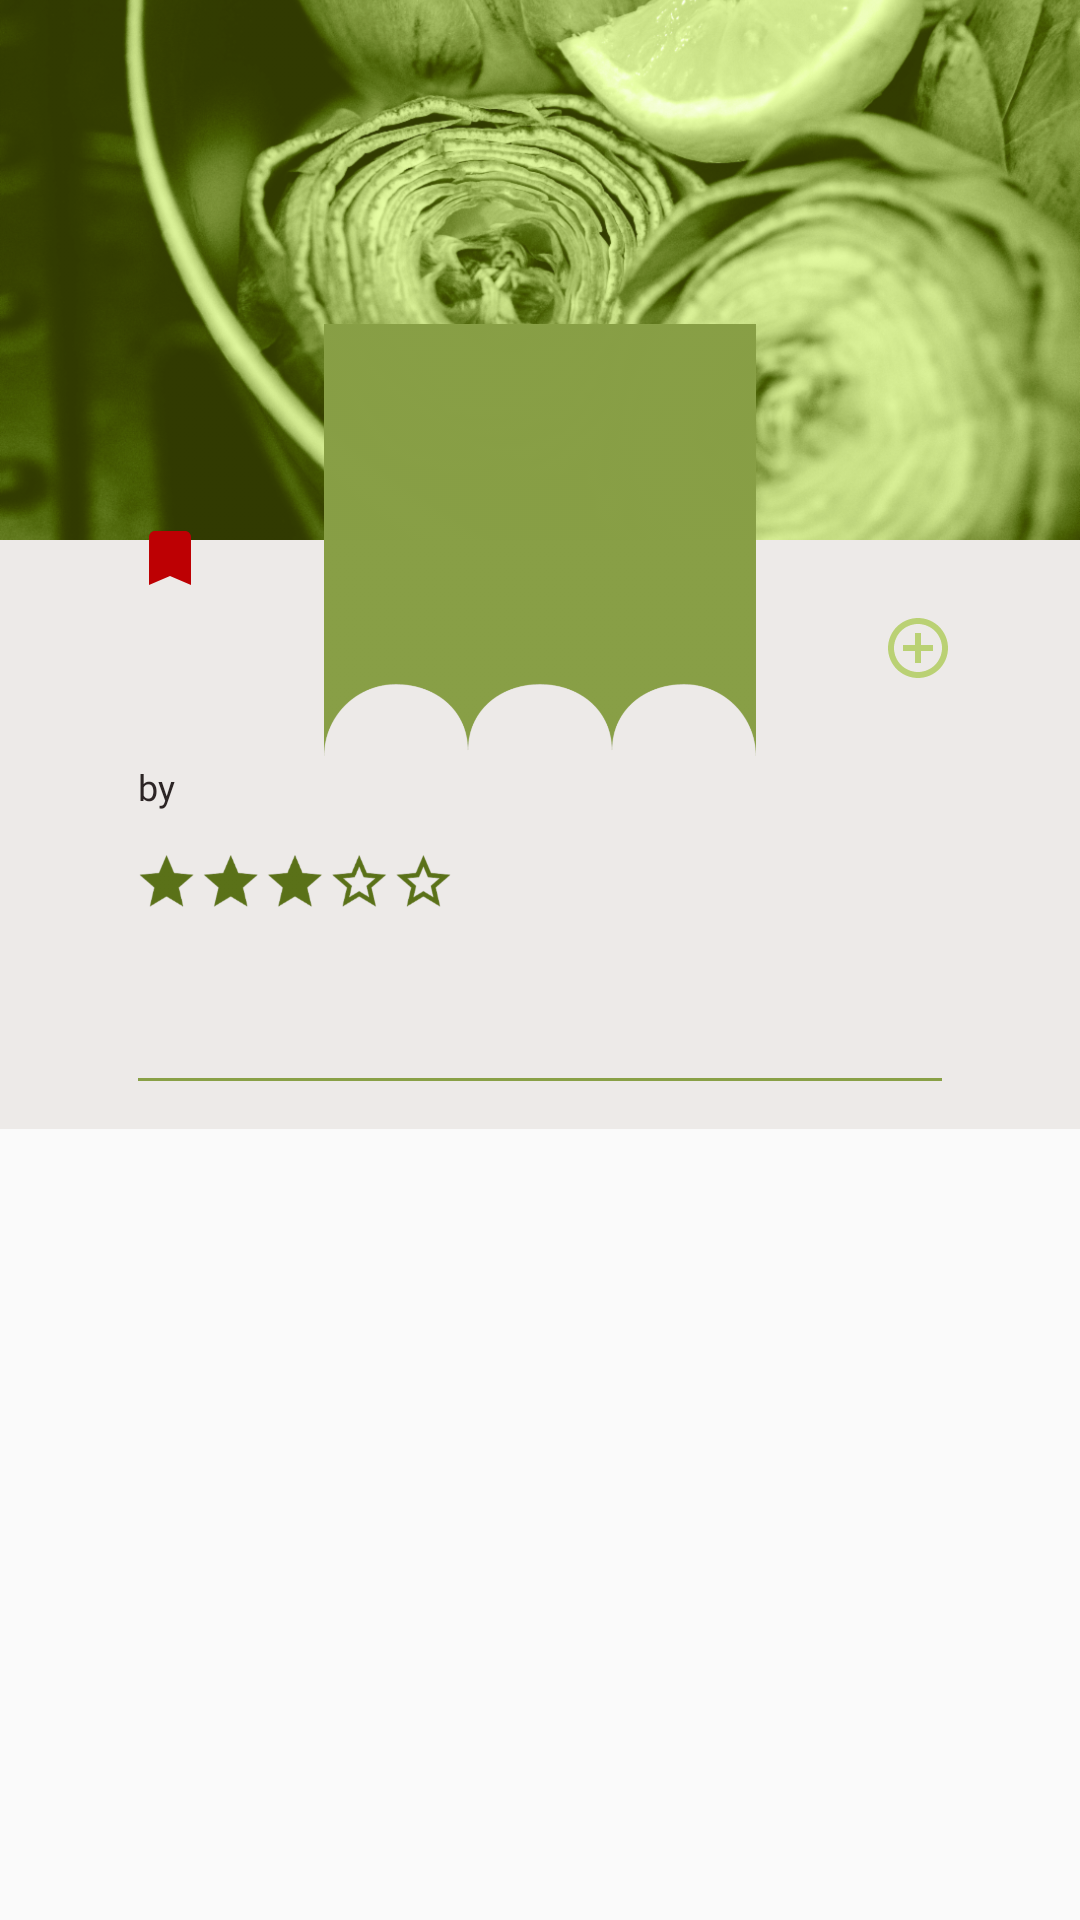

Icons on this 1080x1920 Android screen, each with its box as (x1, y1, x2, y2):
recipe is a favourite: (134, 522, 206, 585)
recipe rating: (140, 855, 450, 907)
